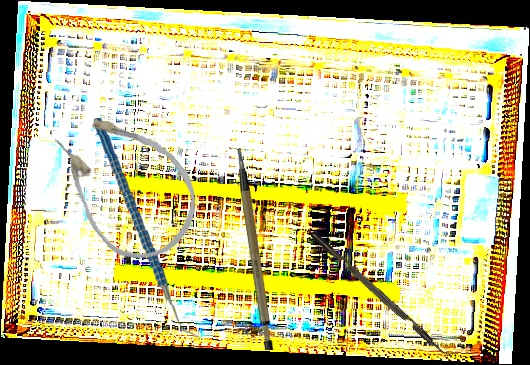Cannula: (33, 87, 218, 279)
Chopper: (93, 113, 201, 346), (311, 224, 459, 365)
Scalpel Handle: (237, 148, 276, 350)
